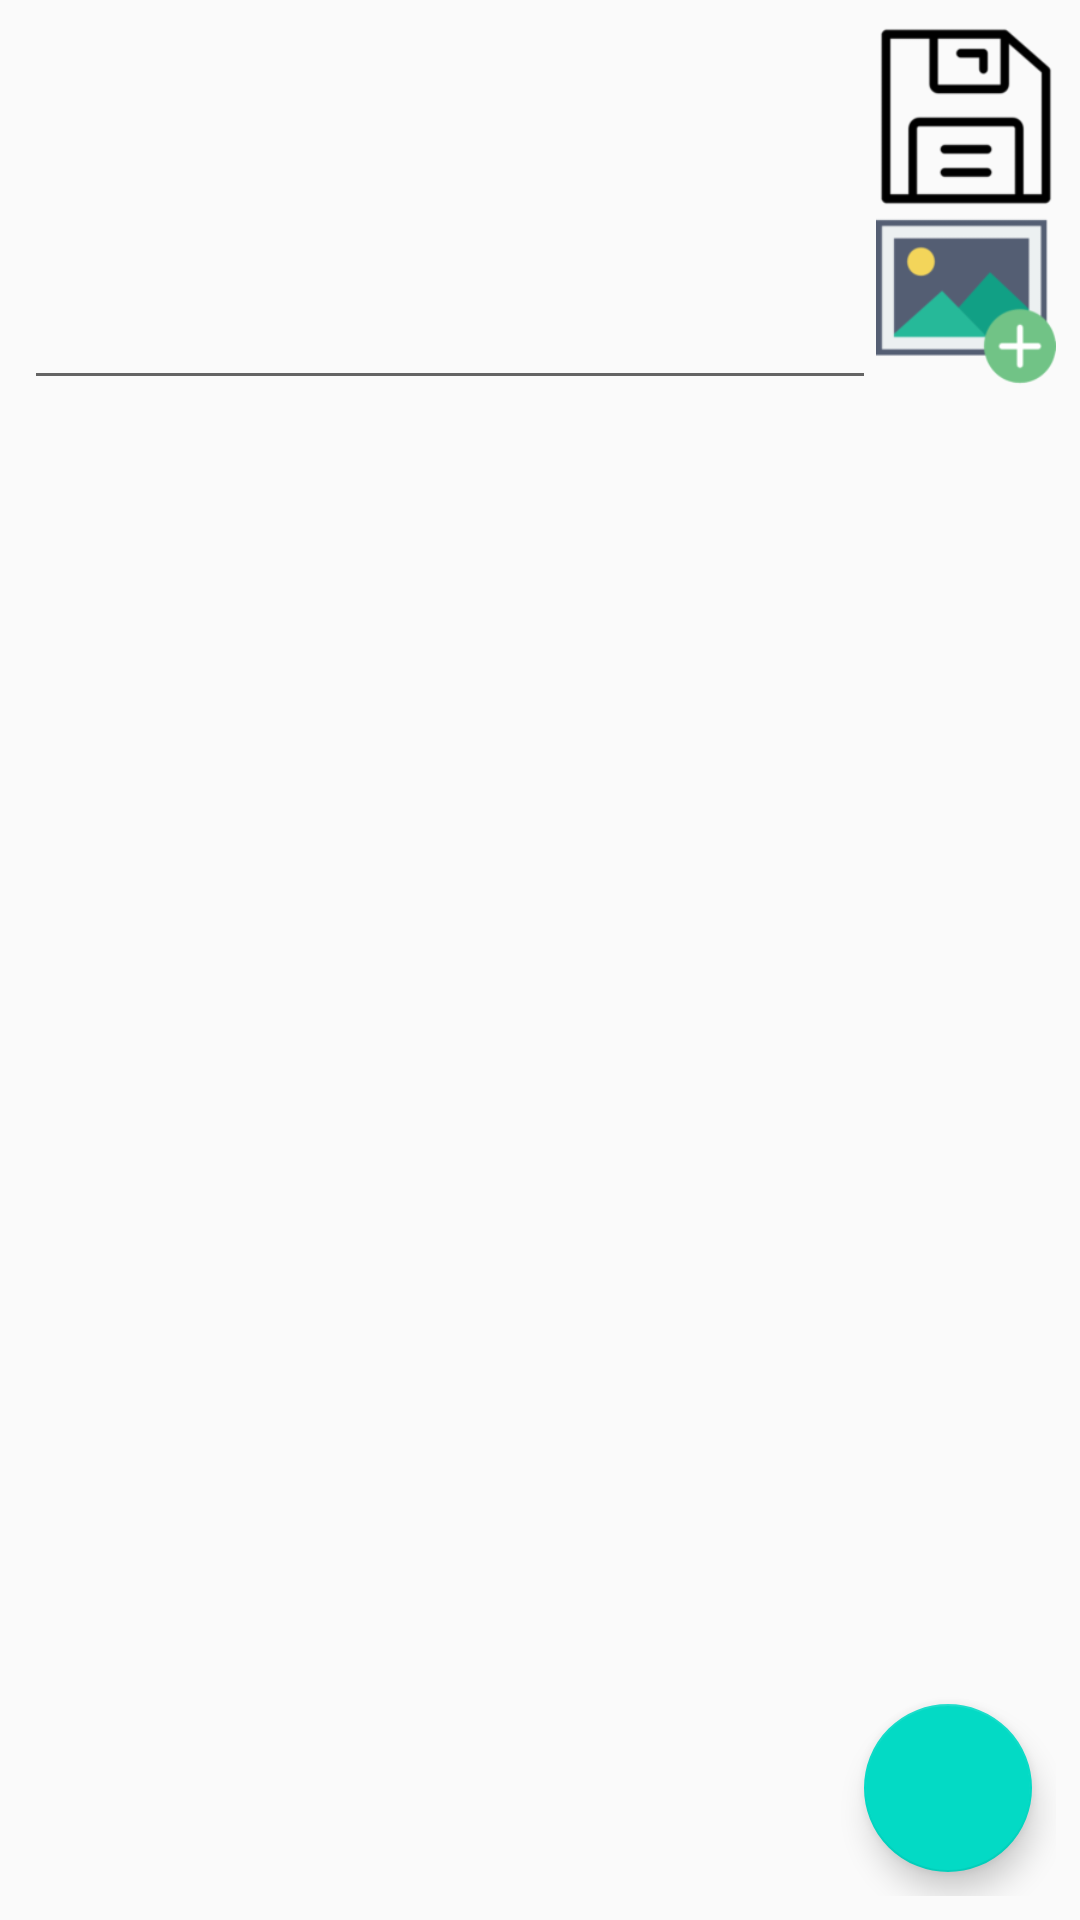

Screen size 1080w x 1920h. Icon name, then its center in pixels as [x,y]:
photo add: [966,301]
save: [966,116]
